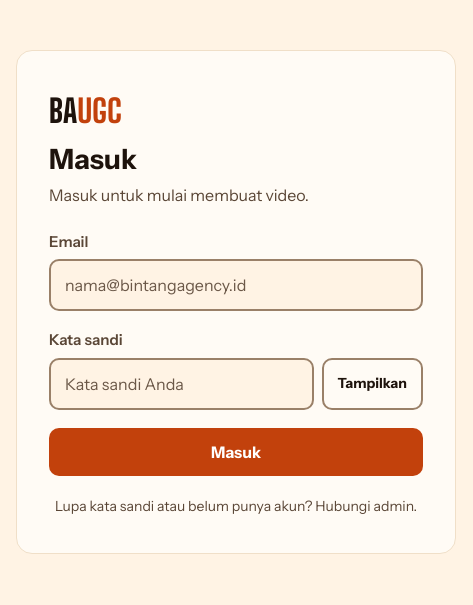
Test case: halaman login › galat login tampil sebagai peringatan berbahasa Indonesia dan form dapat dicoba lagi
The width and height of the screenshot is (473, 605).
Type "a@b.id" into the field labelled "Email" at [236, 285], box x1=49 y1=259 x2=423 y2=311
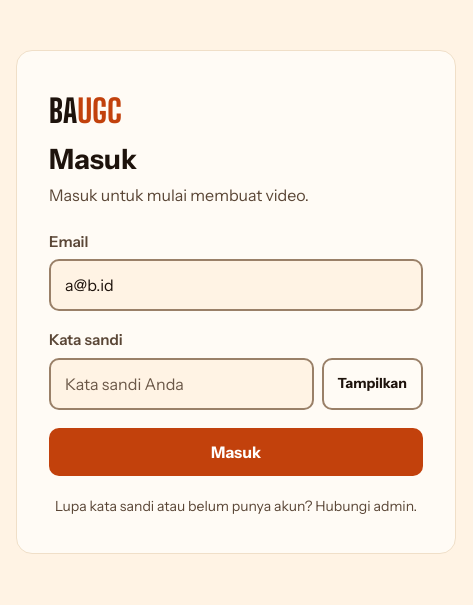
Type "salah" into the password field labelled "Kata sandi" at [181, 384], box x1=49 y1=358 x2=314 y2=410
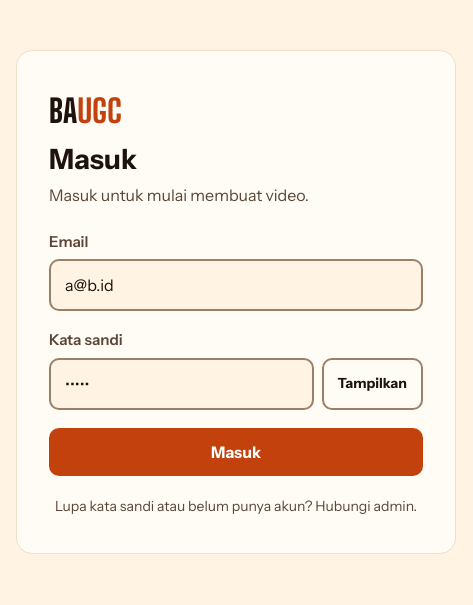
Click the button "Masuk" at [236, 452], box x1=49 y1=428 x2=423 y2=476
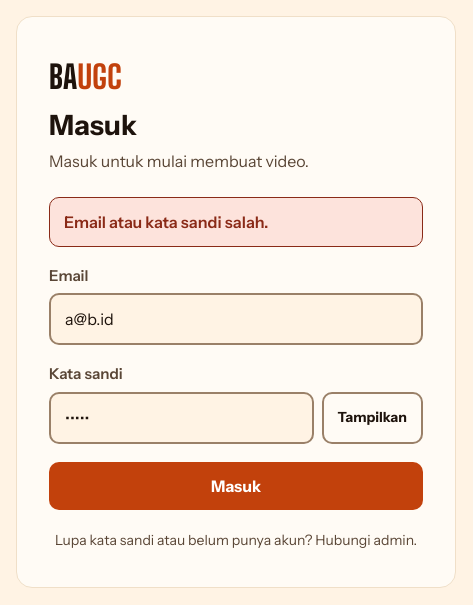
Check: the button "Masuk" is enabled, box x1=49 y1=462 x2=423 y2=510
Check: the message reads "Email atau kata sandi salah.", box x1=64 y1=212 x2=268 y2=232
